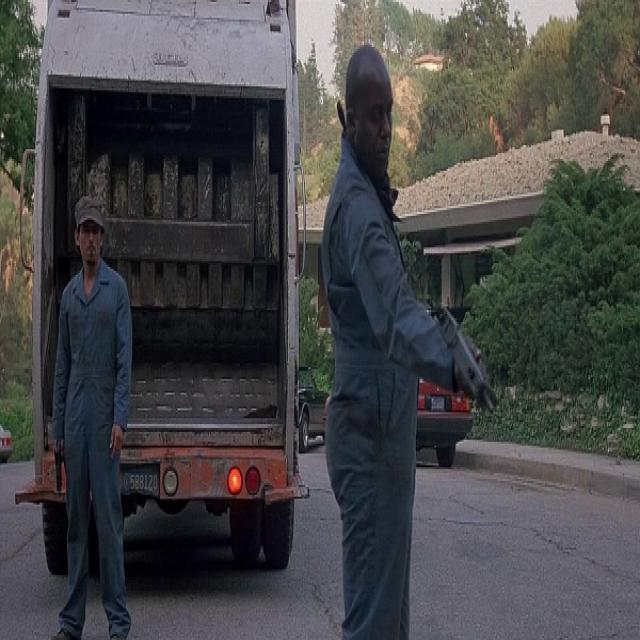rifle: (437, 297, 502, 432)
